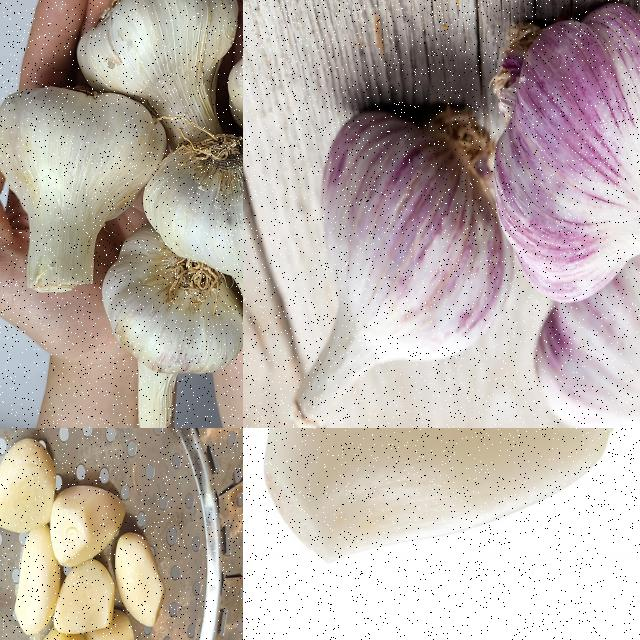garlic: (285, 90, 525, 427), (256, 428, 616, 570), (488, 0, 639, 321), (0, 82, 181, 294), (0, 428, 166, 639), (100, 227, 242, 427), (76, 0, 242, 160), (141, 128, 242, 356), (536, 233, 639, 427)
